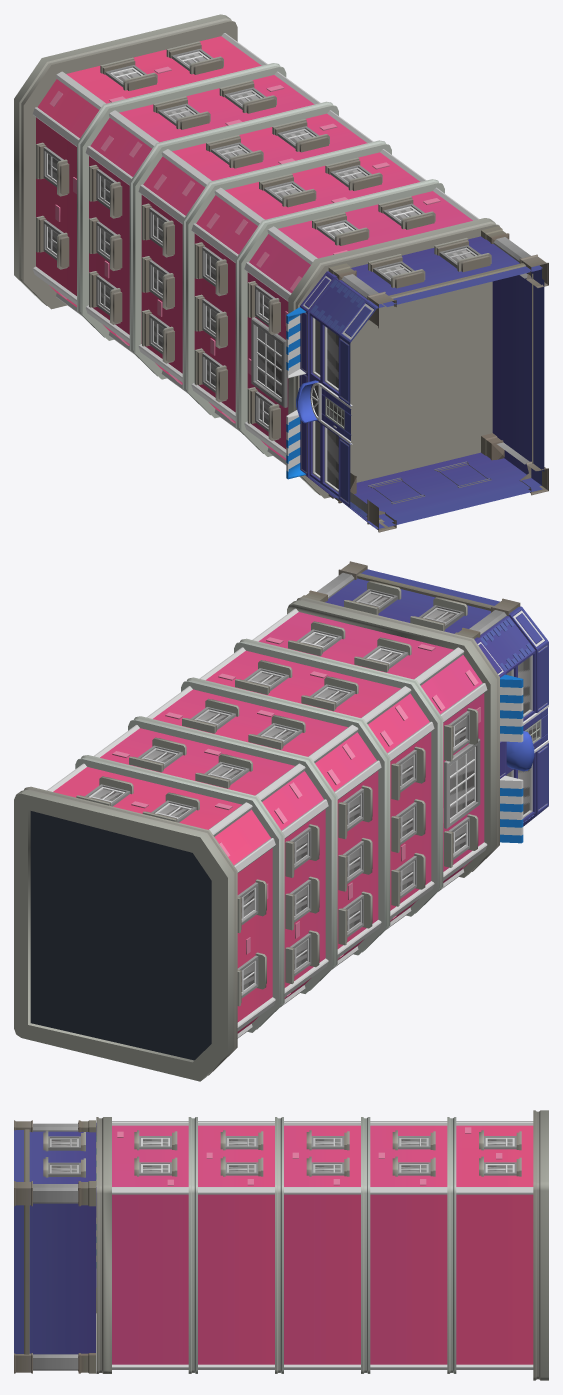
Rendered from Building_3_4_B.fbx.
3 renders of one model, top to bottom at view 1: azimuth 30°, elevation 25°; view 2: azimuth 150°, elevation 25°; view 3: azimuth 270°, elevation 25°, orthographic. The views are drawn at different scales.
Visible parts, largest first — view 1: Building 3_4_B; view 2: Building 3_4_B; view 3: Building 3_4_B.
Boxes of the visible parts, x1=… form: Building 3_4_B: x1=14, y1=14, x2=548, y2=532; Building 3_4_B: x1=14, y1=561, x2=548, y2=1081; Building 3_4_B: x1=14, y1=1110, x2=548, y2=1380.
Bounding box in the file's own units: 808 × 837 × 2041.
